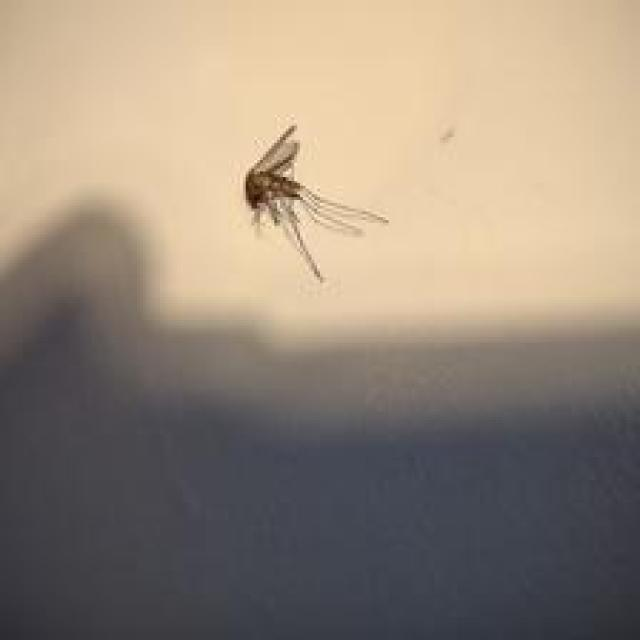Culex: (241, 123, 390, 283)
